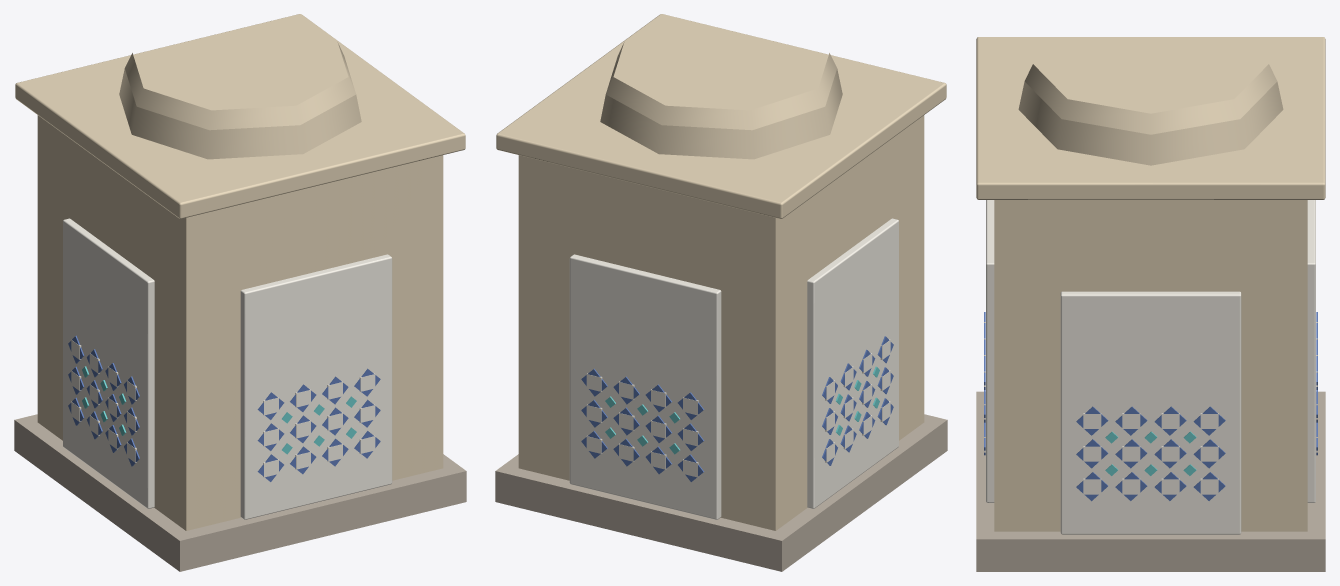
The model's file is minaret-base-76229239.glb.
The picture shows the model from 3 angles, left to right: view 1: azimuth 30°, elevation 25°; view 2: azimuth 150°, elevation 25°; view 3: azimuth 270°, elevation 25°; orthographic projection. The views are drawn at different scales.
Parts seen in each view (by area): view 1: minaret-base; view 2: minaret-base; view 3: minaret-base.
Boxes of the visible parts, left/top/right/bottom form: minaret-base: left=14, top=14, right=466, bottom=571; minaret-base: left=495, top=14, right=947, bottom=571; minaret-base: left=976, top=37, right=1325, bottom=571.
Size of the model in its own units: 2.9 by 3.98 by 2.9.
